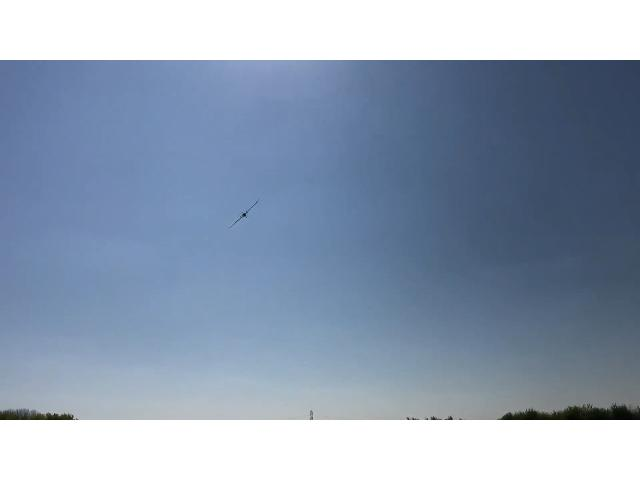Anti-Drone: (212, 194, 286, 238)
